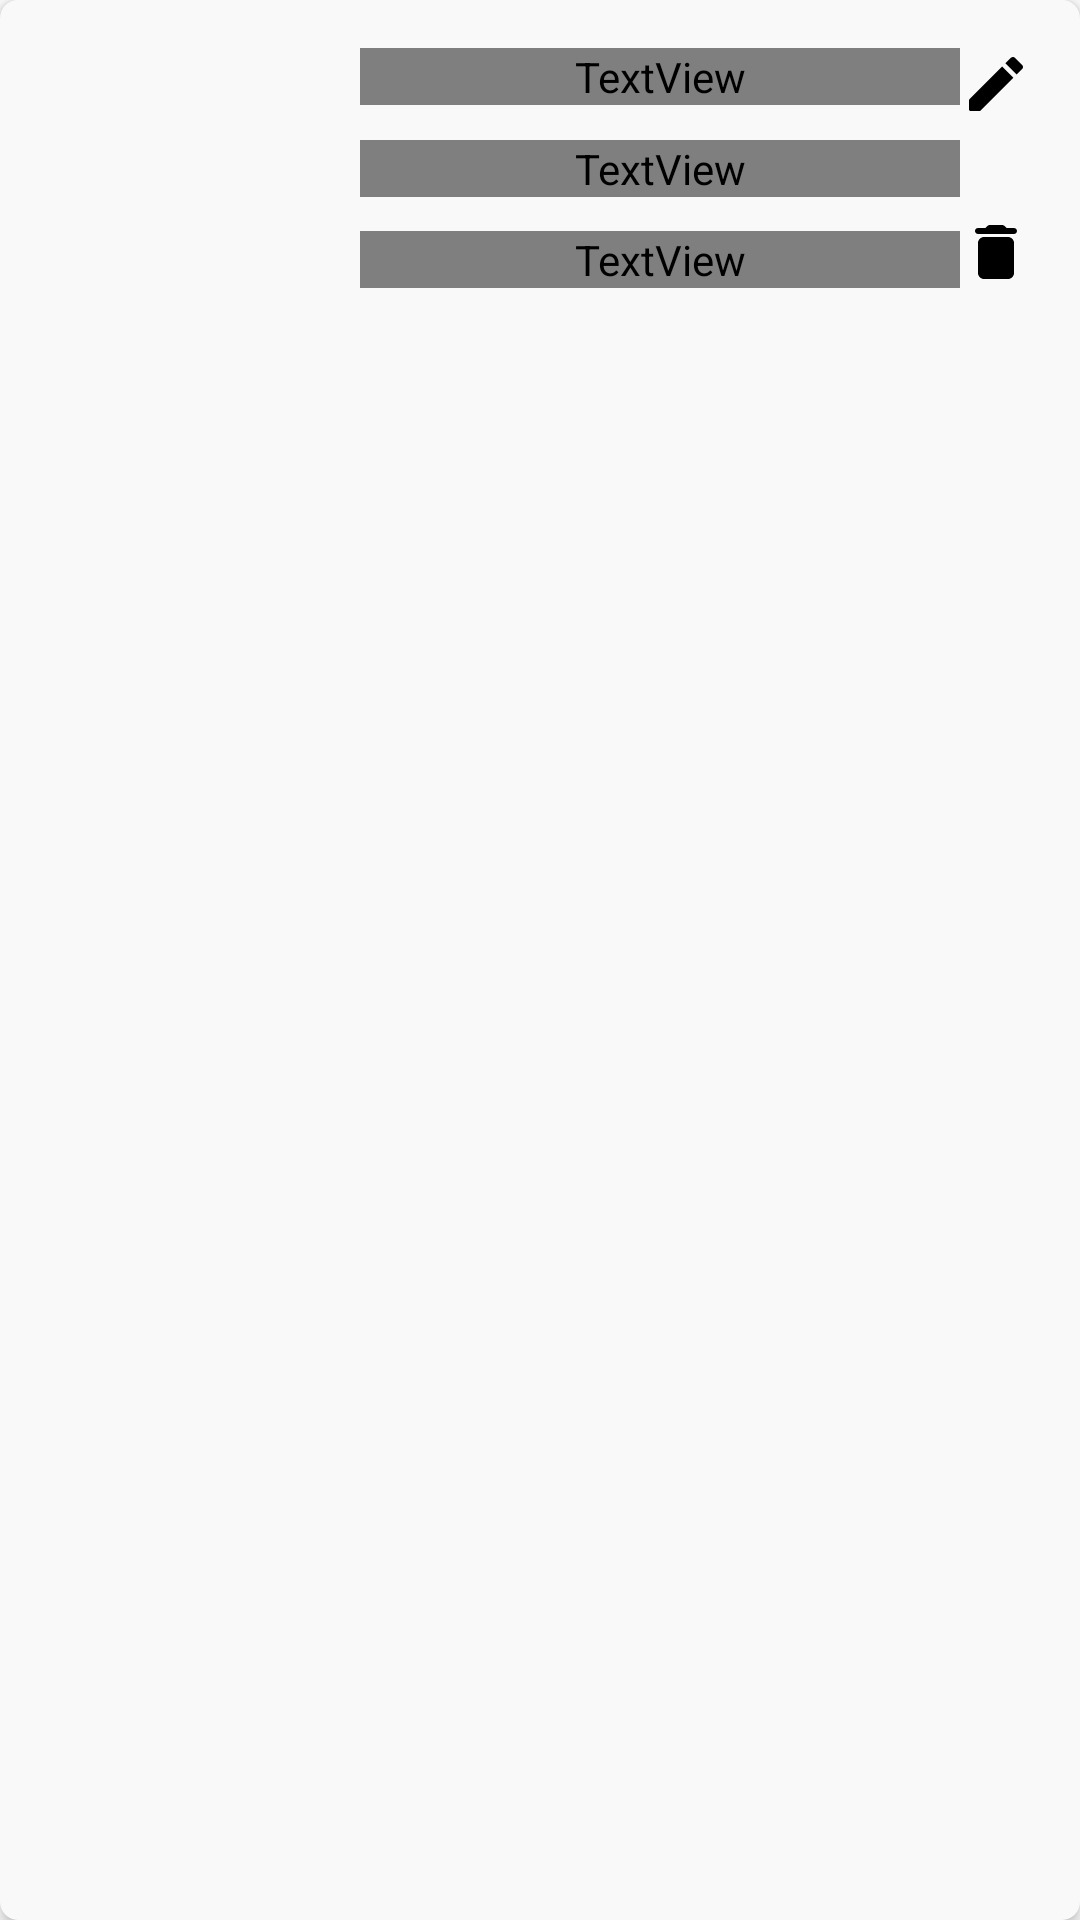

Screen size 1080px x 1920px. Icon name, then its center in pixels as point (x, y):
delete: point (996, 252)
edit: point (996, 84)
